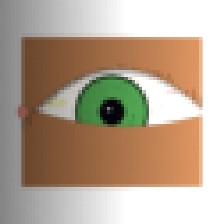pinguecula_lesion: (35, 86, 77, 120)
